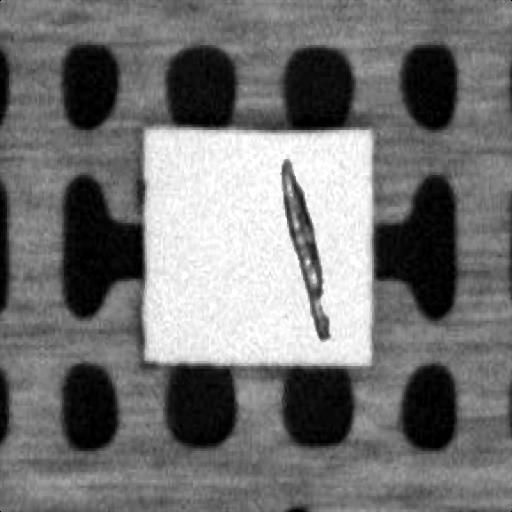DIE_INK: (411, 101, 496, 230)
